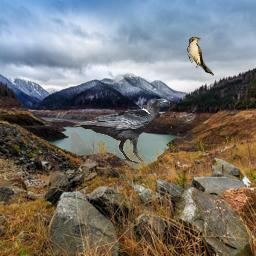Crow: (71, 97, 170, 164)
Cuckoo: (187, 37, 214, 77)
